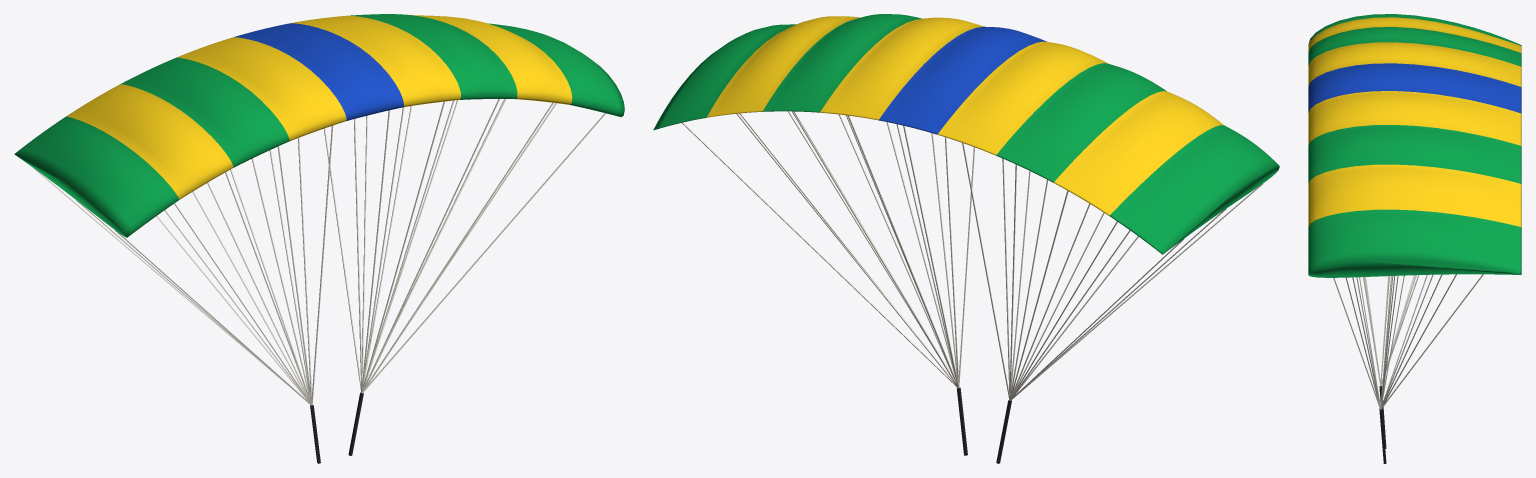
File: parachute.glb
The picture shows the model from 3 angles, left to right: view 1: azimuth 30°, elevation 25°; view 2: azimuth 150°, elevation 25°; view 3: azimuth 270°, elevation 25°; orthographic projection. The views are drawn at different scales.
Parts seen in each view (by area): view 1: Velame, Linhas; view 2: Velame, Linhas; view 3: Velame, Linhas.
Boxes of the visible parts, <box> form: Velame: <box>14,14,624,237</box>; Linhas: <box>33,99,605,463</box>; Velame: <box>653,14,1279,254</box>; Linhas: <box>682,111,1262,463</box>; Velame: <box>1308,14,1521,277</box>; Linhas: <box>1333,274,1483,463</box>.
Size of the model in its own units: 6.63 by 4.97 by 2.5.
